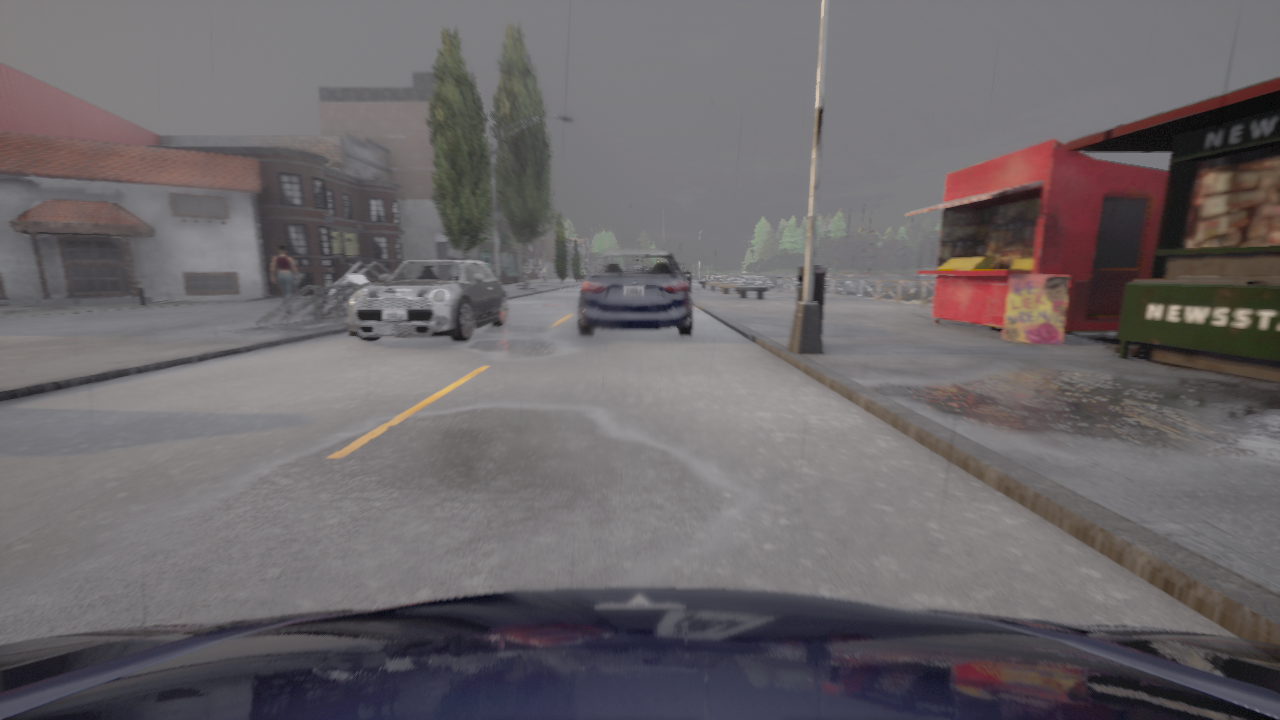cyclist: (0, 588, 1279, 719), (346, 260, 507, 341), (577, 249, 692, 336)
pedestrian: (271, 245, 297, 313)
